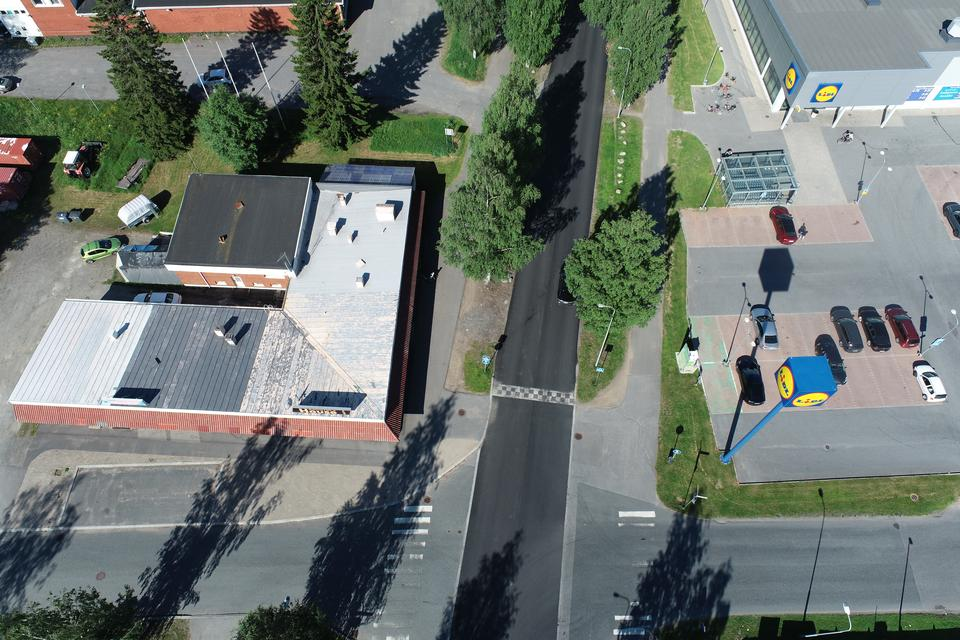intersection: (149, 437, 520, 640), (542, 436, 862, 640), (455, 59, 629, 154)
